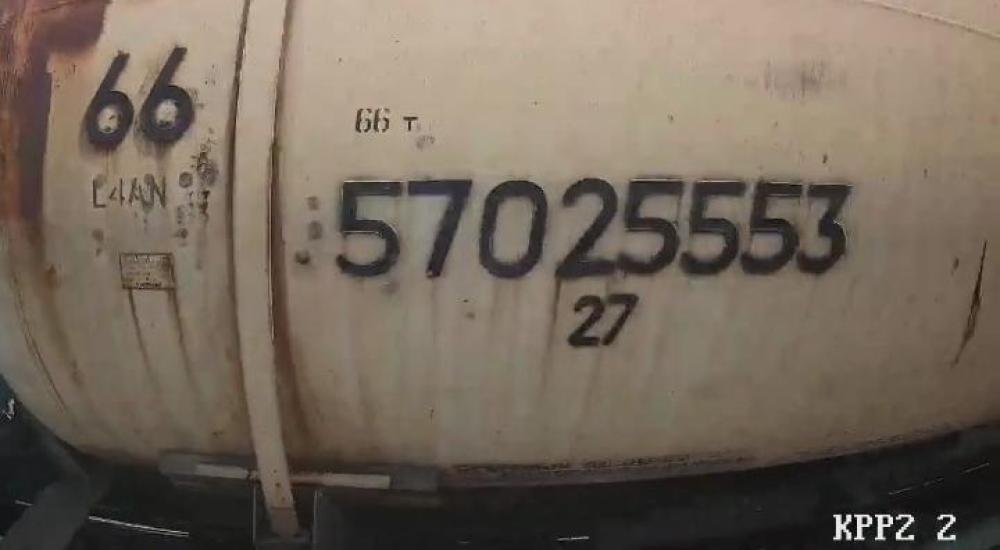Wagon-number: (335, 167, 852, 283)
